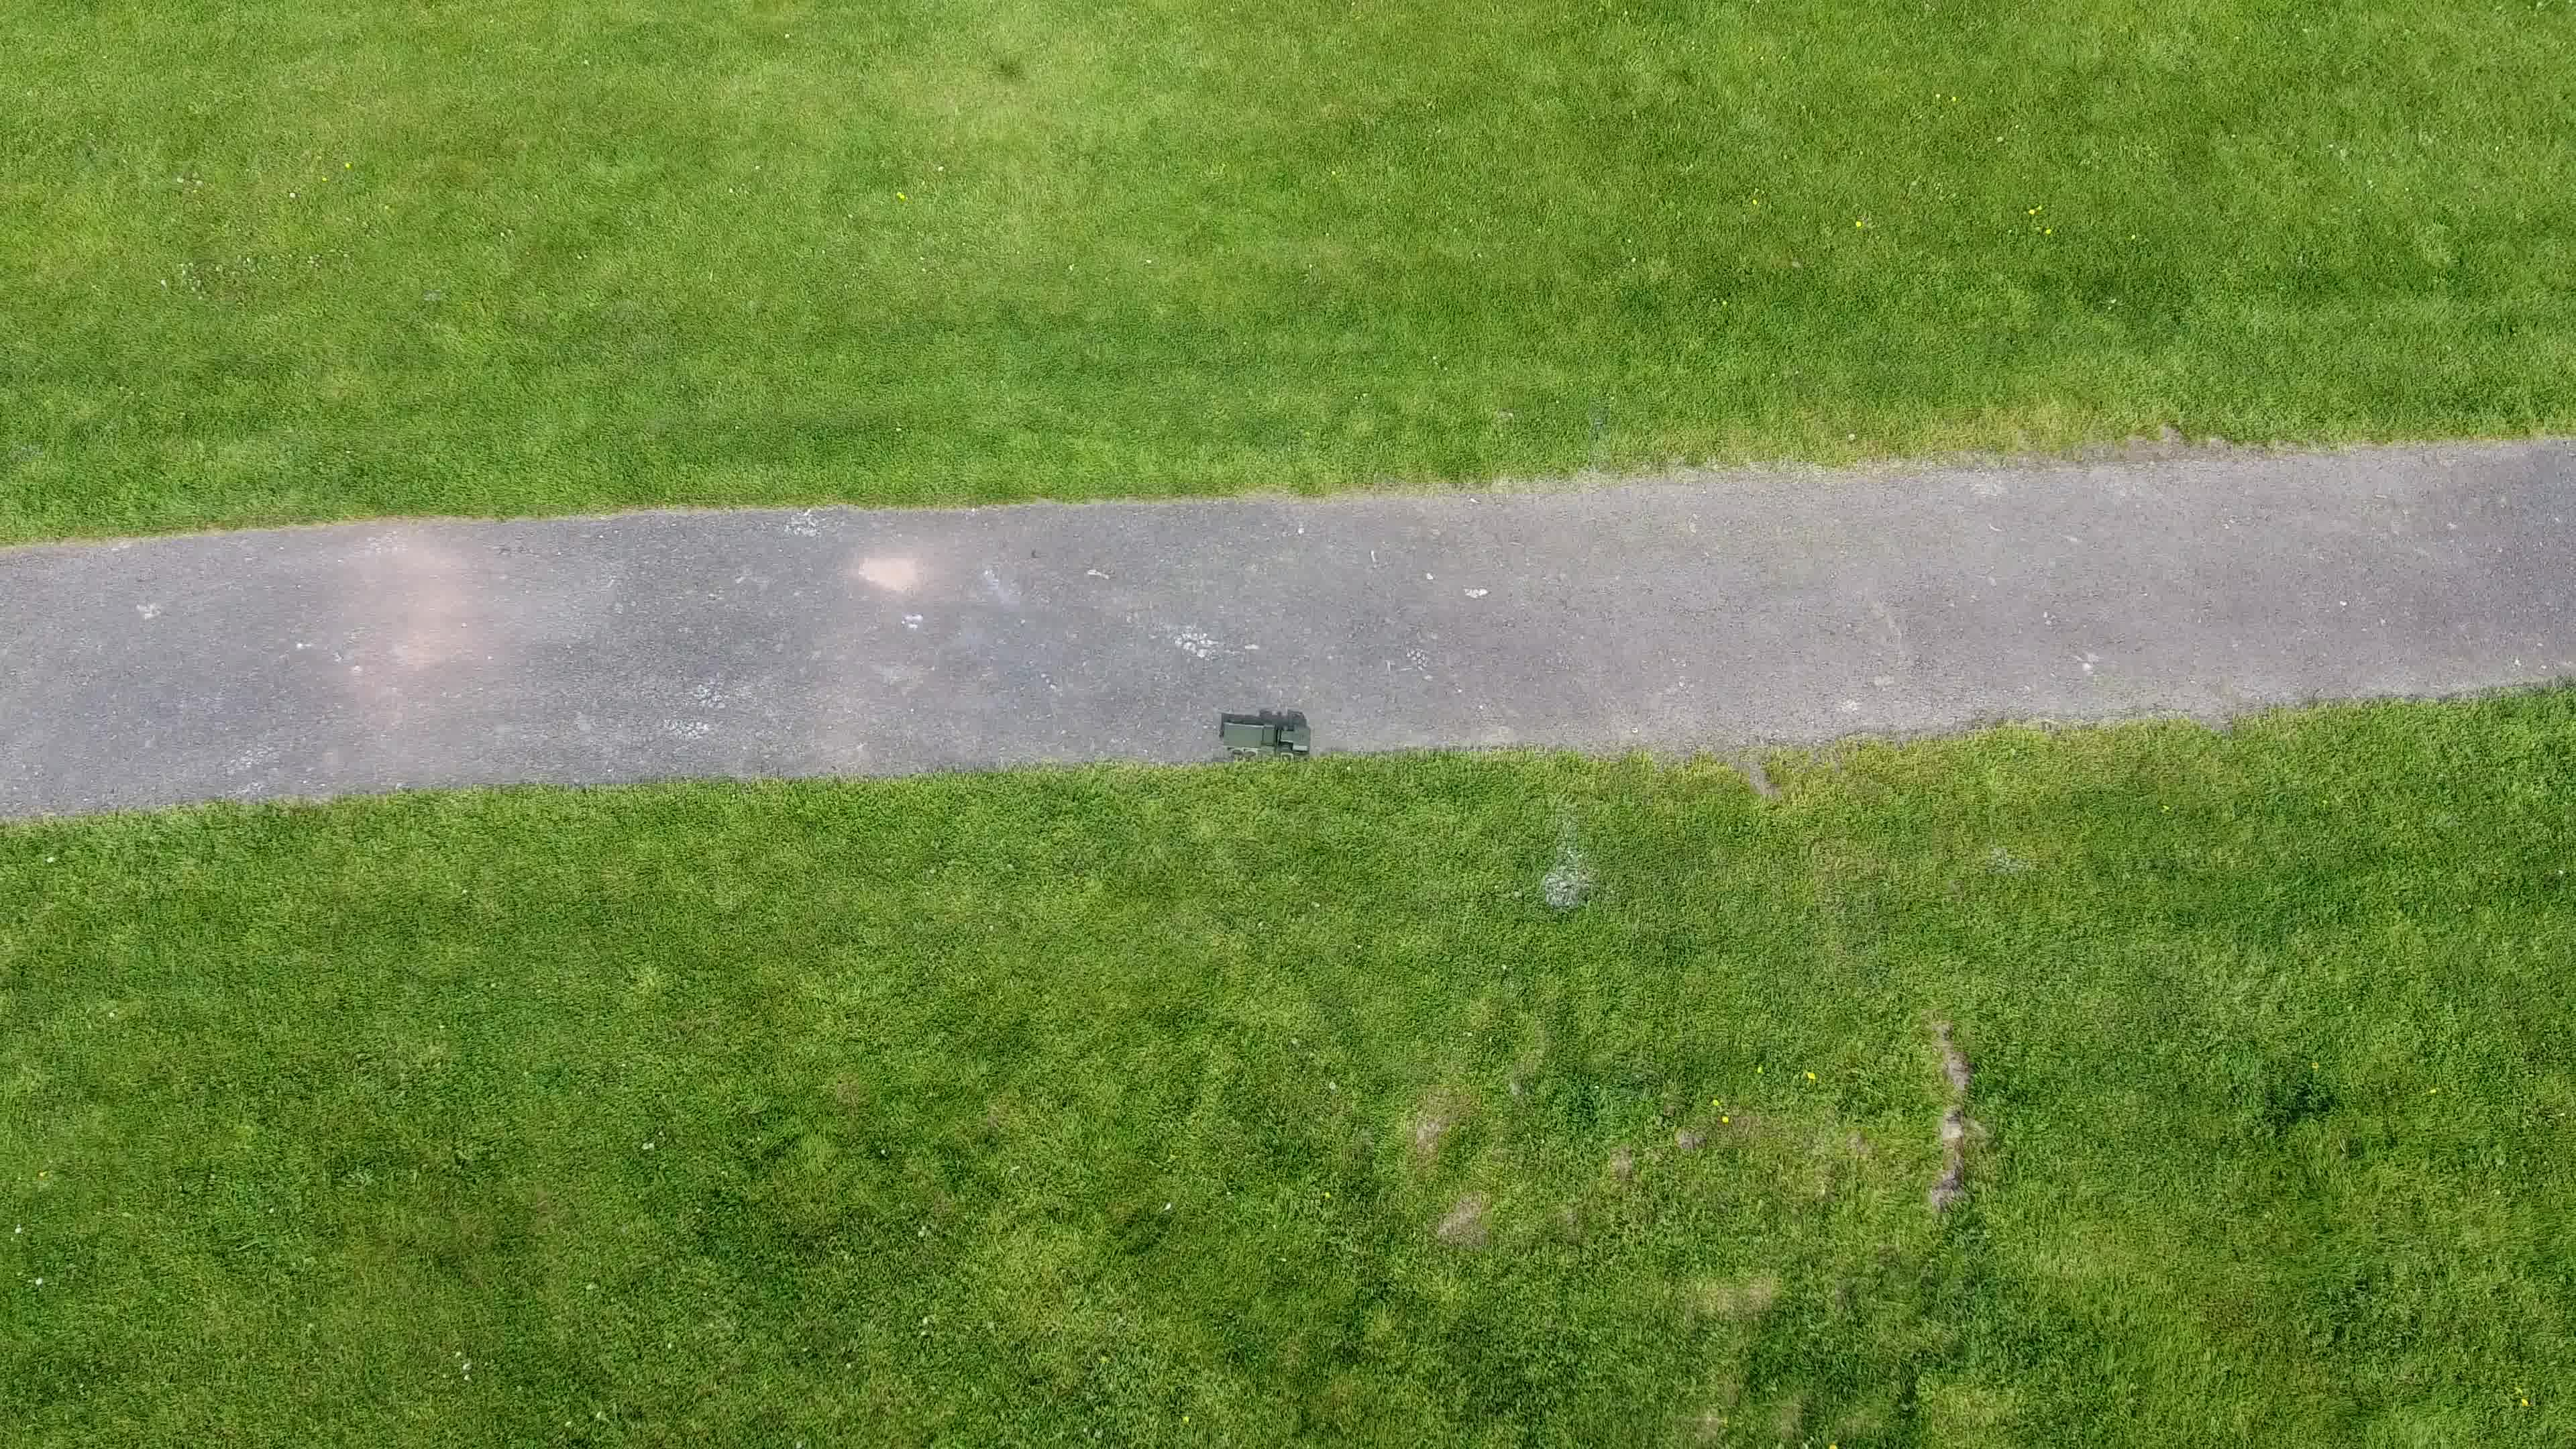transporter9: (1214, 715, 1316, 768)
